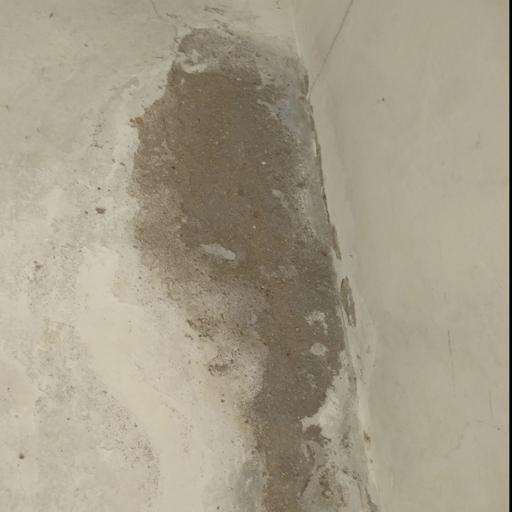peeling: (107, 14, 377, 512)
